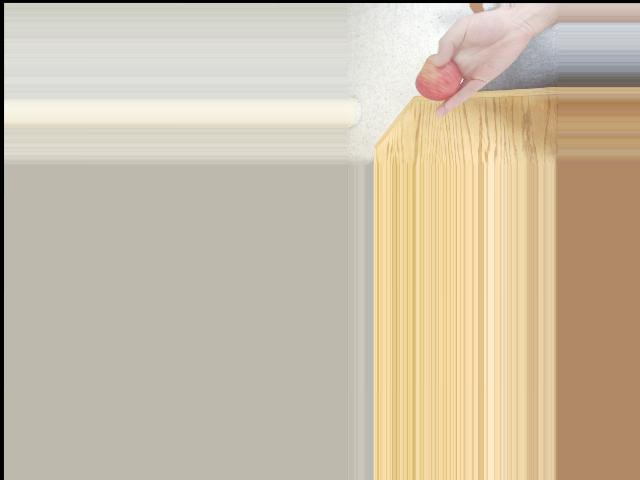apple: (411, 52, 468, 101)
